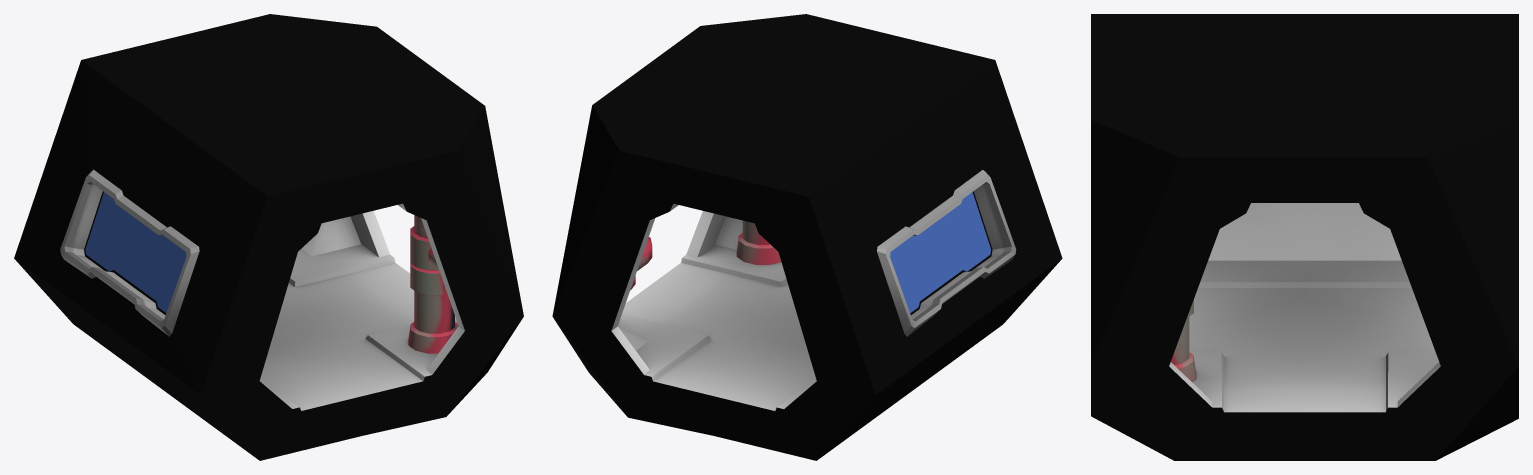
Rendered from mod_Tshape.glb.
3 views of the same model, side by side, from view 1: azimuth 30°, elevation 25°; view 2: azimuth 150°, elevation 25°; view 3: azimuth 270°, elevation 25° (orthographic). The views are drawn at different scales.
Parts seen in each view (by area): view 1: Plane.071, Plane.029; view 2: Plane.071, Plane.029; view 3: Plane.071, Plane.029.
Boxes of the visible parts, x1=… form: Plane.071: x1=14, y1=14, x2=523, y2=460; Plane.029: x1=408, y1=215, x2=458, y2=353; Plane.071: x1=552, y1=14, x2=1062, y2=460; Plane.029: x1=736, y1=220, x2=781, y2=264; Plane.071: x1=1091, y1=14, x2=1518, y2=460; Plane.029: x1=1171, y1=299, x2=1195, y2=381.
Bounding box in the file's own units: 5 × 3.92 × 5.
3 materials, 2 textured.
